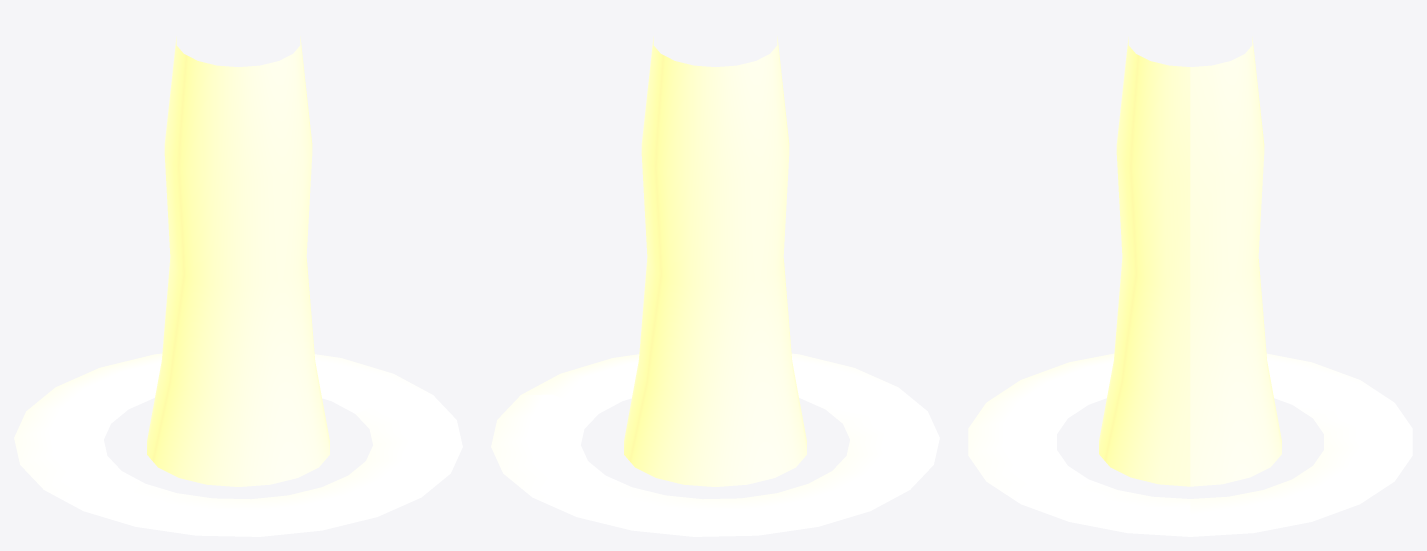
File: vfx_teleport_burst.glb
The picture shows the model from 3 angles, left to right: view 1: azimuth 30°, elevation 25°; view 2: azimuth 150°, elevation 25°; view 3: azimuth 270°, elevation 25°; orthographic projection.
Parts seen in each view (by area): view 1: vfx_teleport_burst_column, vfx_teleport_burst_ring; view 2: vfx_teleport_burst_column, vfx_teleport_burst_ring; view 3: vfx_teleport_burst_column, vfx_teleport_burst_ring.
Part boxes in pixels (bbox=[...]): vfx_teleport_burst_column: bbox=[147, 36, 329, 486]; vfx_teleport_burst_ring: bbox=[14, 353, 462, 536]; vfx_teleport_burst_column: bbox=[624, 36, 806, 486]; vfx_teleport_burst_ring: bbox=[491, 353, 939, 536]; vfx_teleport_burst_column: bbox=[1099, 37, 1281, 486]; vfx_teleport_burst_ring: bbox=[968, 353, 1412, 536].
Bounding box in the file's own units: 3 × 3 × 2.97.
